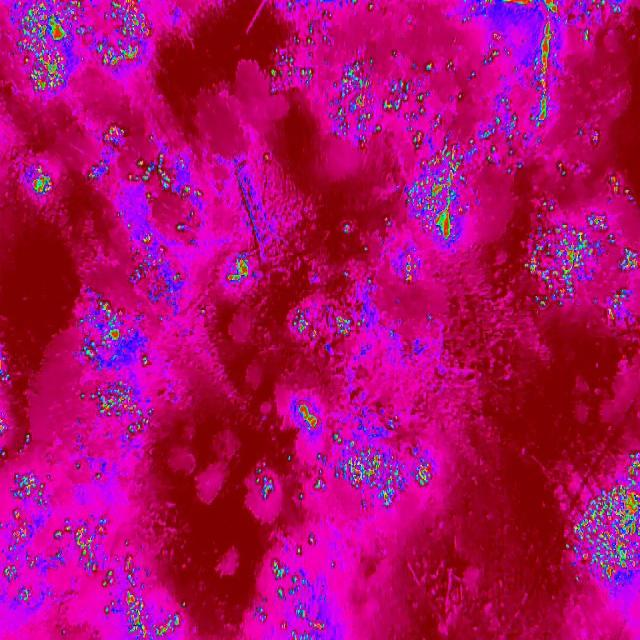fire: (326, 0, 640, 316), (0, 477, 186, 640), (255, 388, 438, 520), (5, 0, 154, 95), (73, 277, 158, 438), (560, 442, 640, 596), (91, 122, 209, 209), (248, 542, 344, 640), (256, 0, 327, 92), (283, 312, 363, 336), (0, 349, 13, 456), (223, 252, 253, 292), (23, 162, 53, 200)
